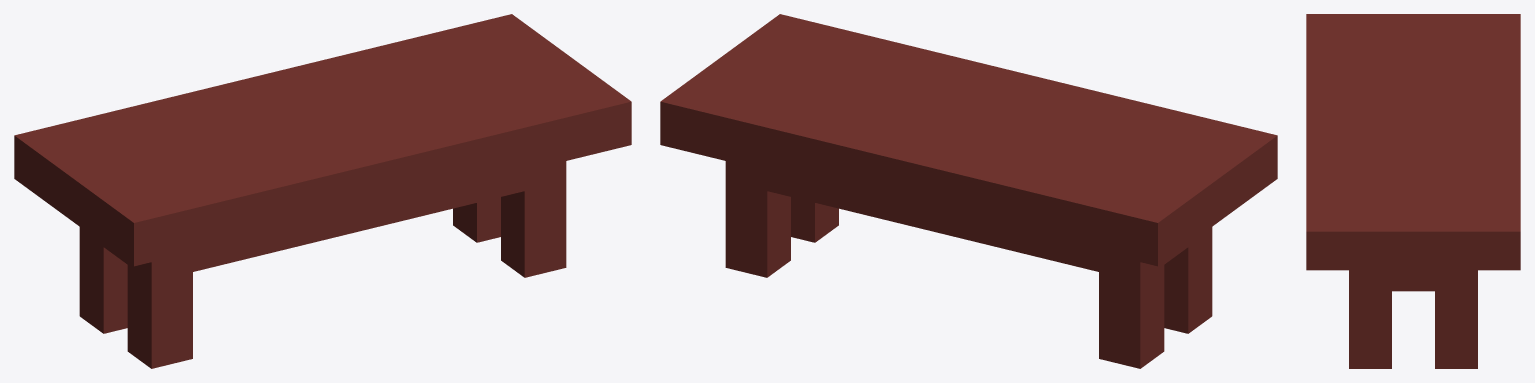
The model's file is large_bench_b.obj.
The picture shows the model from 3 angles, left to right: view 1: azimuth 30°, elevation 25°; view 2: azimuth 150°, elevation 25°; view 3: azimuth 270°, elevation 25°; orthographic projection. The views are drawn at different scales.
Size of the model in its own units: 1.2 by 0.4 by 0.5.
1 material, 1 textured.
